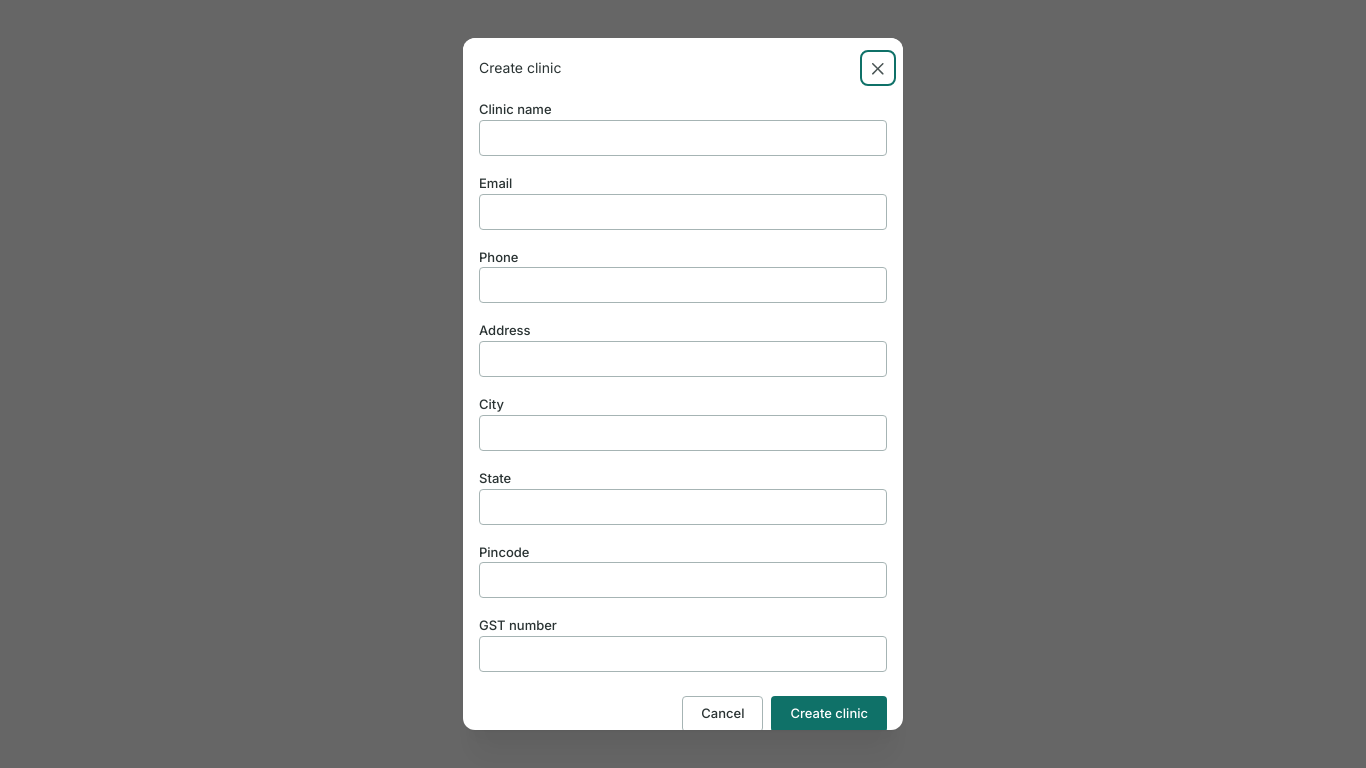
Test: ClinicFormDialog › creates a clinic on success
Type "North Clinic" into the field labelled "Clinic name" at (683,138), box [479,120,887,156]
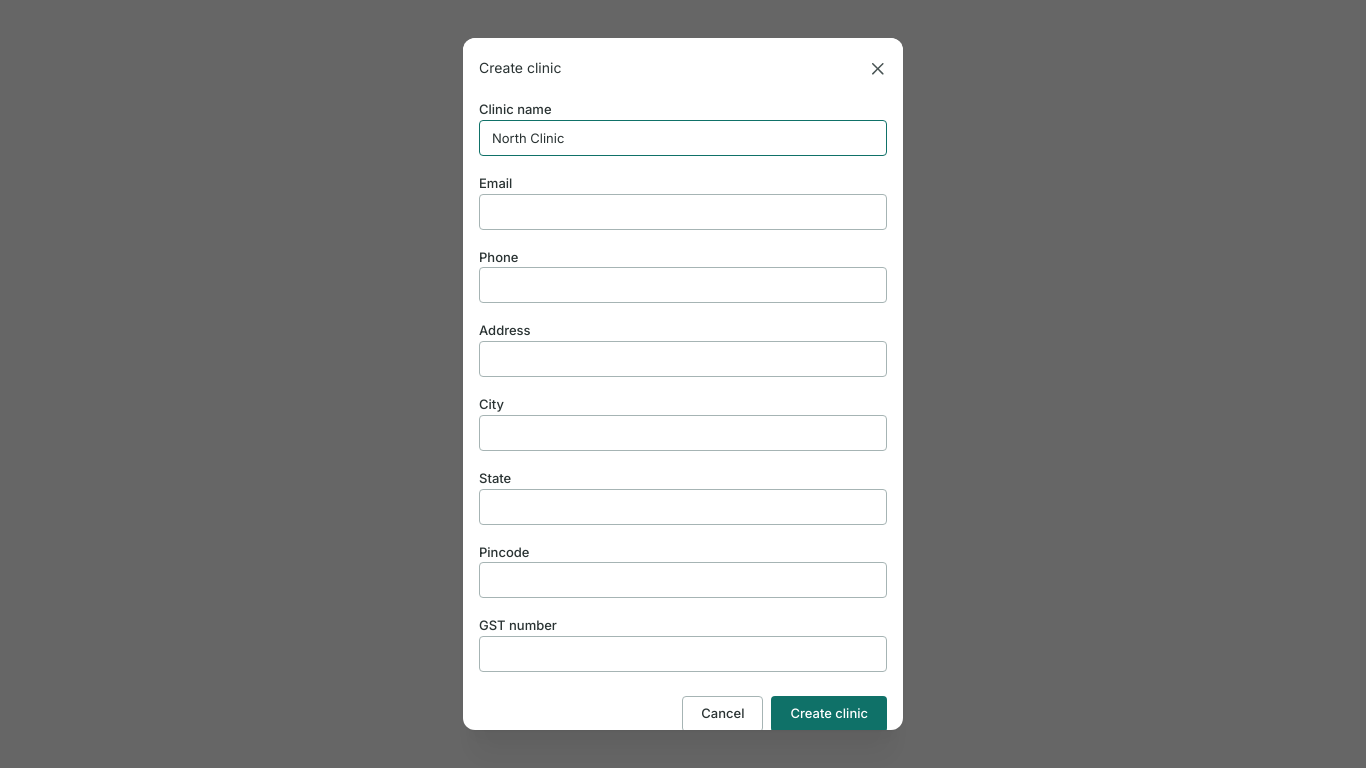
Click the button "Create clinic" at (829,714), box [772,696,887,732]
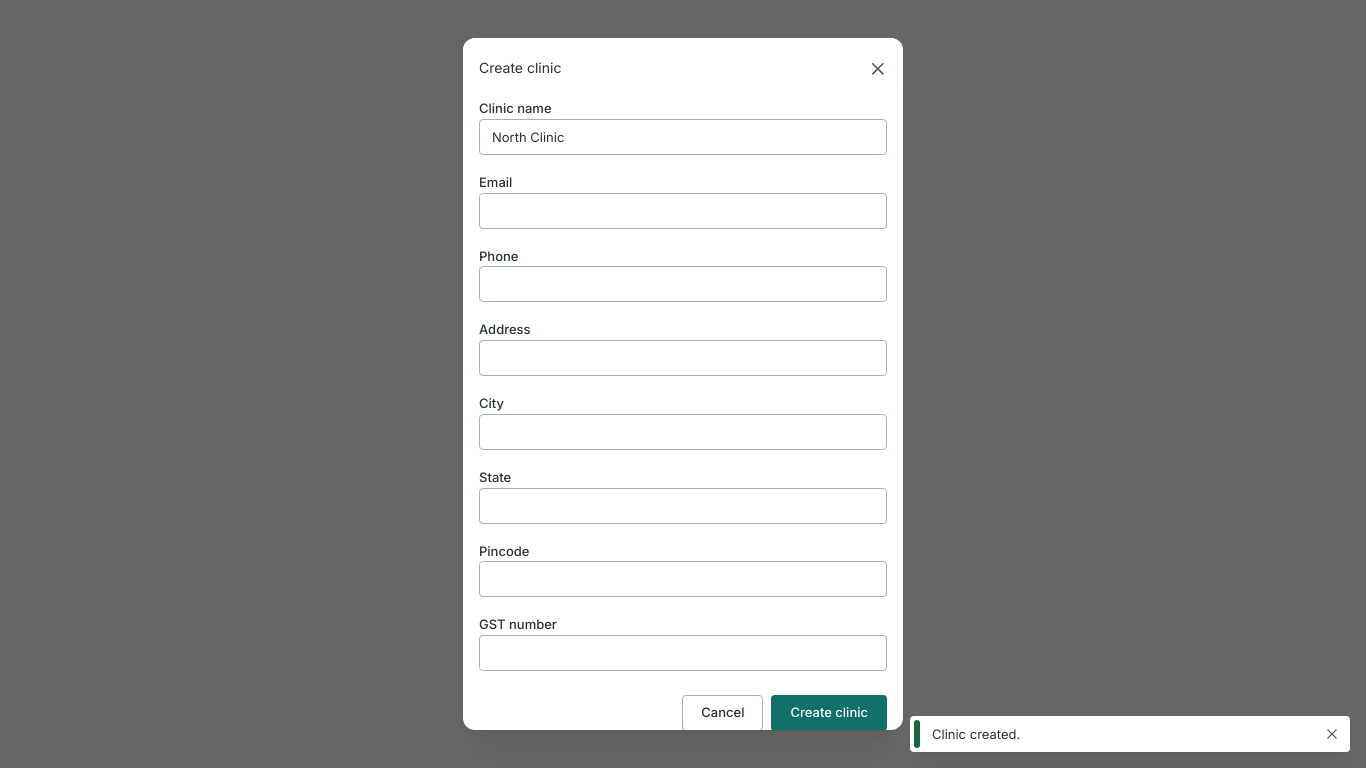
Now the text "Clinic created." is shown, box [932,726,1020,742]
